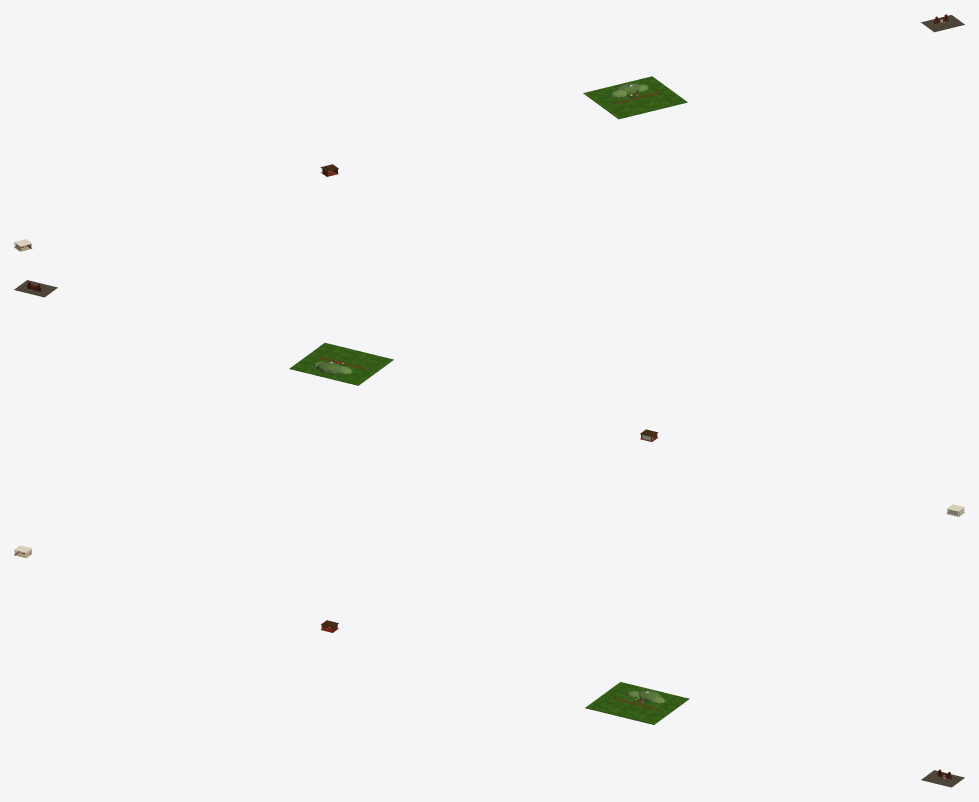
File: ember.glb
The picture shows the model from 3 angles, top to bottom: view 1: azimuth 30°, elevation 25°; view 2: azimuth 150°, elevation 25°; view 3: azimuth 330°, elevation 25°; orthographic projection.
Visible parts, largest first — view 1: L3_Zappolino__Meadow; view 2: L3_Zappolino__Meadow; view 3: L3_Zappolino__Meadow.
Boxes of the visible parts, bbox=[...] form: L3_Zappolino__Meadow: bbox=[583, 76, 687, 119]; L3_Zappolino__Meadow: bbox=[289, 343, 393, 385]; L3_Zappolino__Meadow: bbox=[585, 682, 689, 724].
Bounding box in the file's own units: 1228 × 15.91 × 80.
36 materials, 11 textured.
